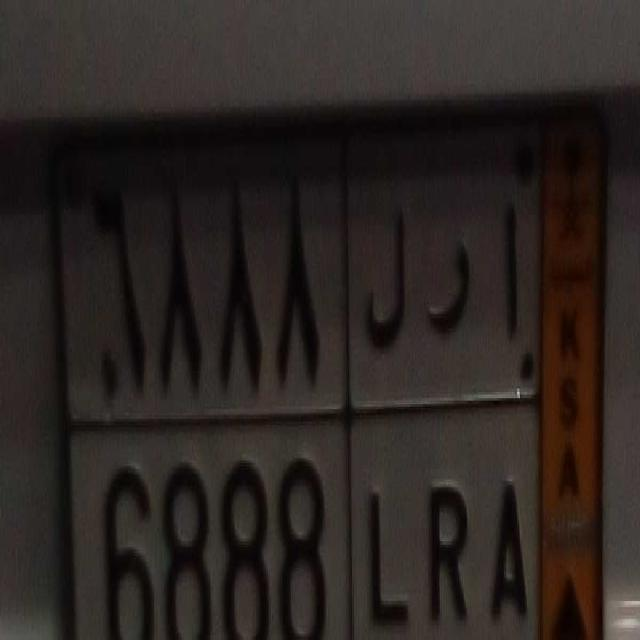license_plate: (56, 401, 541, 640)
